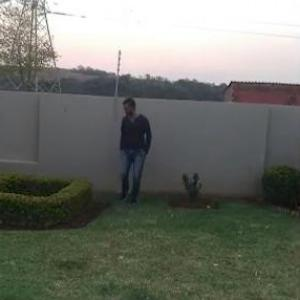follow: (118, 91, 153, 210)
